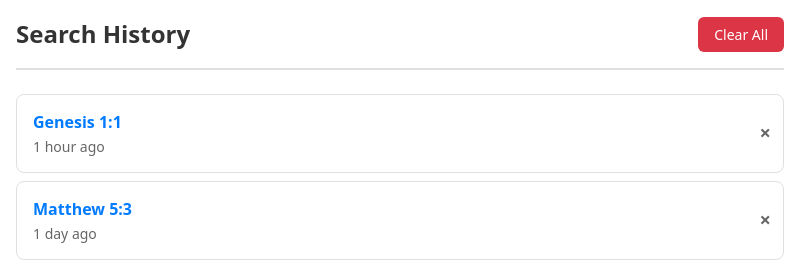
Test: SearchHistory Integration › clears all history properly
Click the button with aria-label "clear all search history". click: x=741, y=34
box: 698,16 -> 784,52
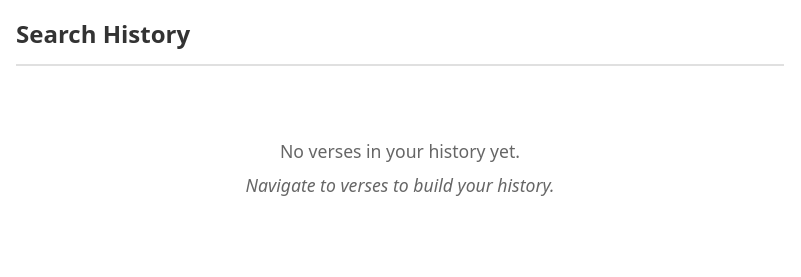
Expected: the text "No verses in your history yet." is shown, 280,139 -> 520,163
